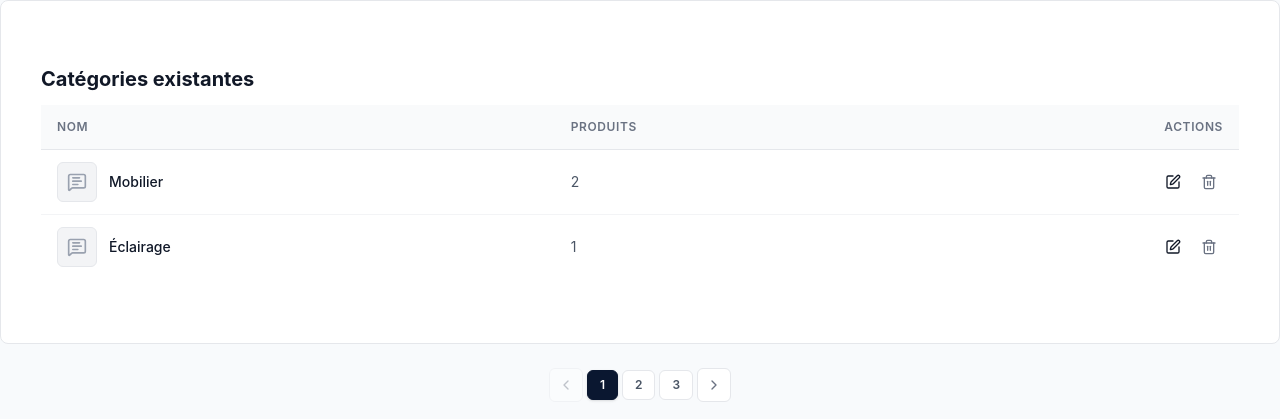
Scenario: AdminCategoryTable — pagination › affiche le message de chargement sur la page cliquée
This screenshot has width=1280, height=419.
Click the button named "Page 2". click: (639, 385)
box: [622,370,656,400]
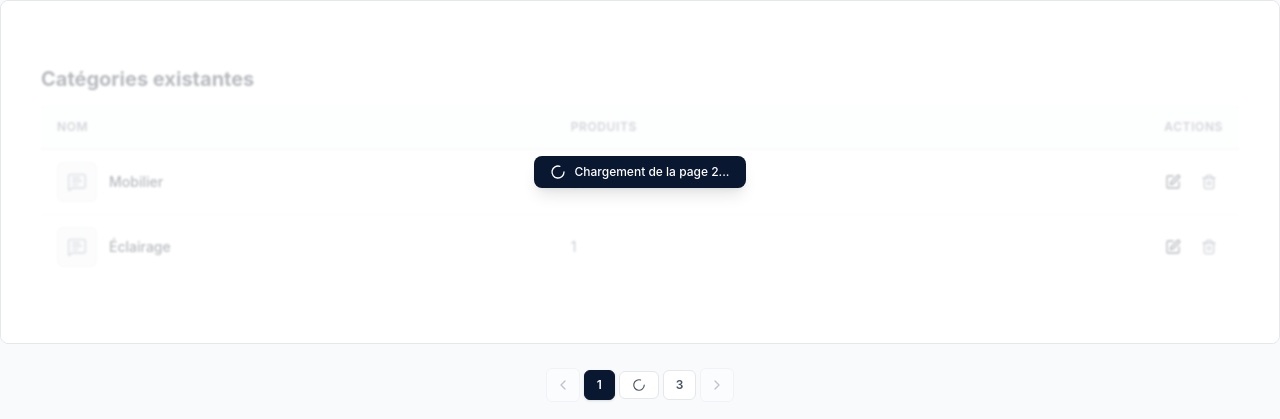
Now the message shows "Chargement de la page 2"
